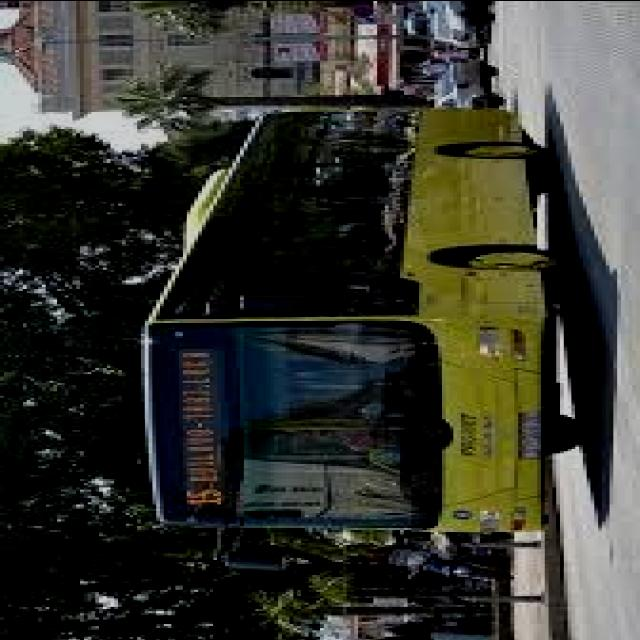bus: (122, 95, 600, 574)
